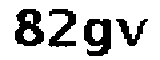2: (46, 5, 79, 55)
8: (13, 6, 45, 48)
g: (80, 15, 116, 60)
v: (116, 17, 149, 51)
